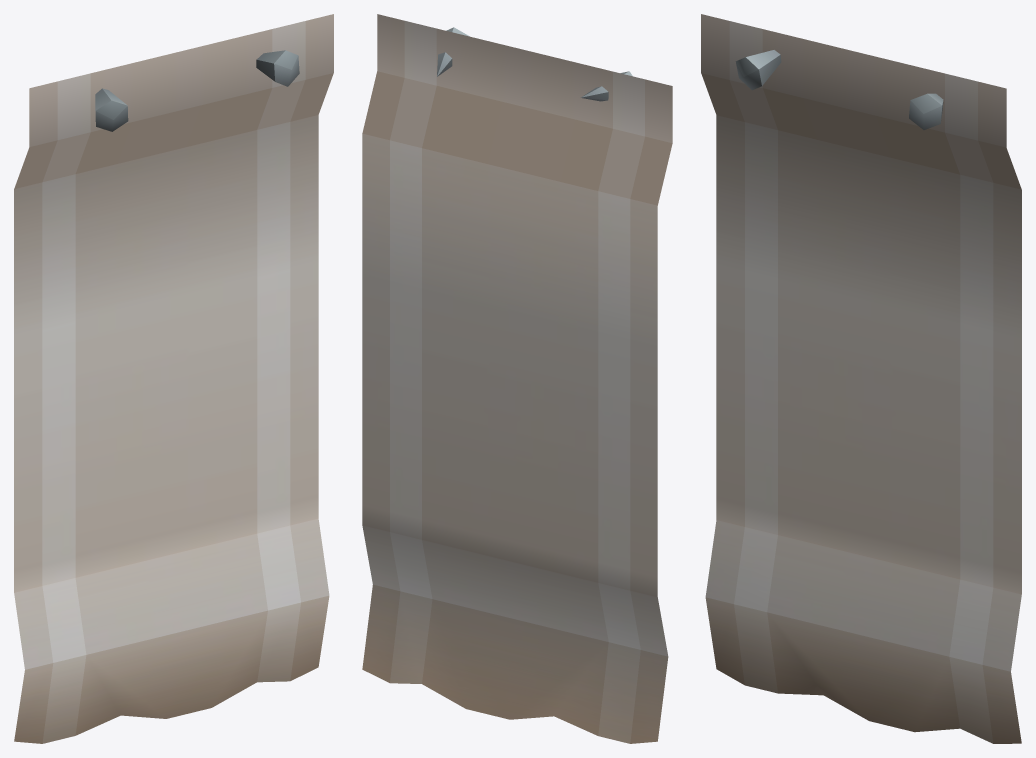
The model's file is banner-white-gltf.glb.
The picture shows the model from 3 angles, left to right: view 1: azimuth 30°, elevation 25°; view 2: azimuth 150°, elevation 25°; view 3: azimuth 330°, elevation 25°; orthographic projection. The views are drawn at different scales.
Parts seen in each view (by area): view 1: banner_white; view 2: banner_white; view 3: banner_white.
Part boxes in pixels (left/top/right/bottom): banner_white: left=14, top=14, right=333, bottom=743; banner_white: left=362, top=14, right=672, bottom=743; banner_white: left=701, top=14, right=1021, bottom=743.
Size of the model in its own units: 1.5 by 3.2 by 0.3117.
1 material, 1 textured.
